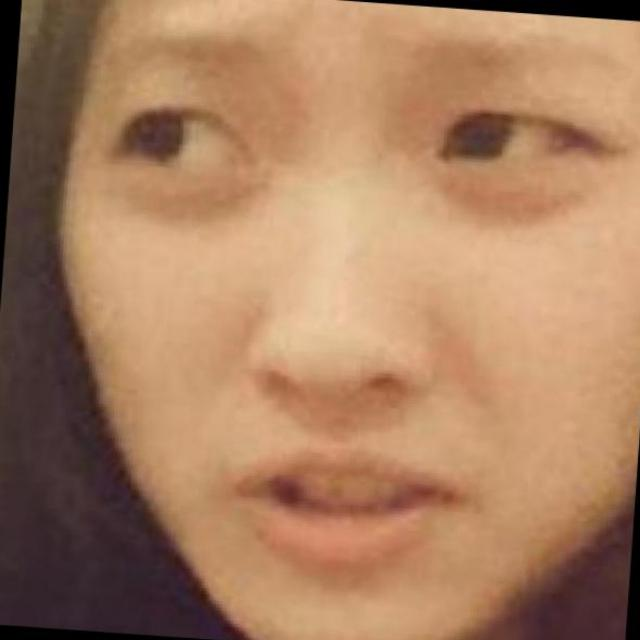Disgust: (87, 8, 632, 640)
